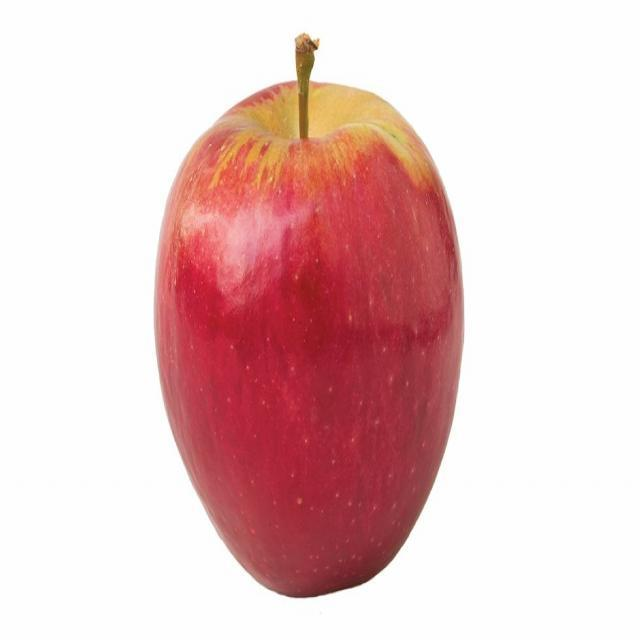Apple: (154, 29, 468, 604)
